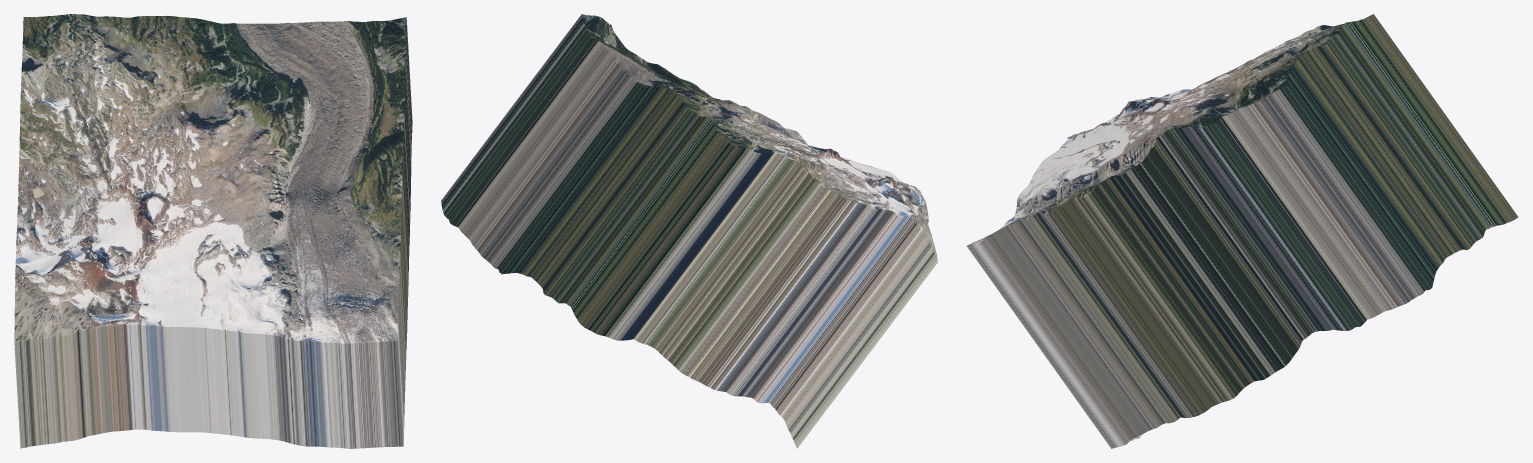
3 views of the same model, side by side, from view 1: azimuth 30°, elevation 25°; view 2: azimuth 150°, elevation 25°; view 3: azimuth 270°, elevation 25° (orthographic). The views are drawn at different scales.
Size of the model in its own units: 6127 by 4688 by 6635.
1 material, 1 textured.
